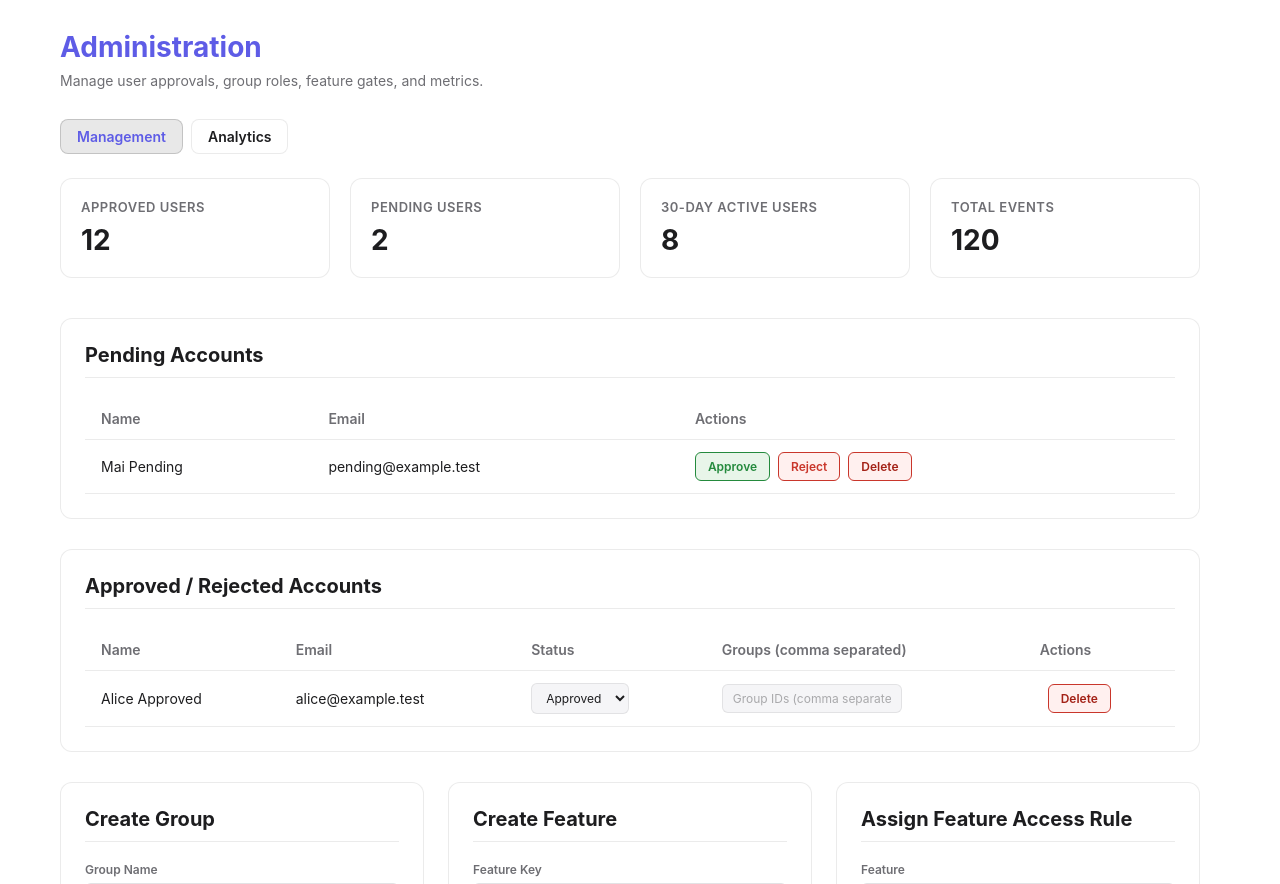
Test case: AdminPage Dashboard › switches to Analytics view when Analytics button clicked
The width and height of the screenshot is (1280, 884).
Click the button "Analytics": (240, 136) [191, 119, 288, 154]
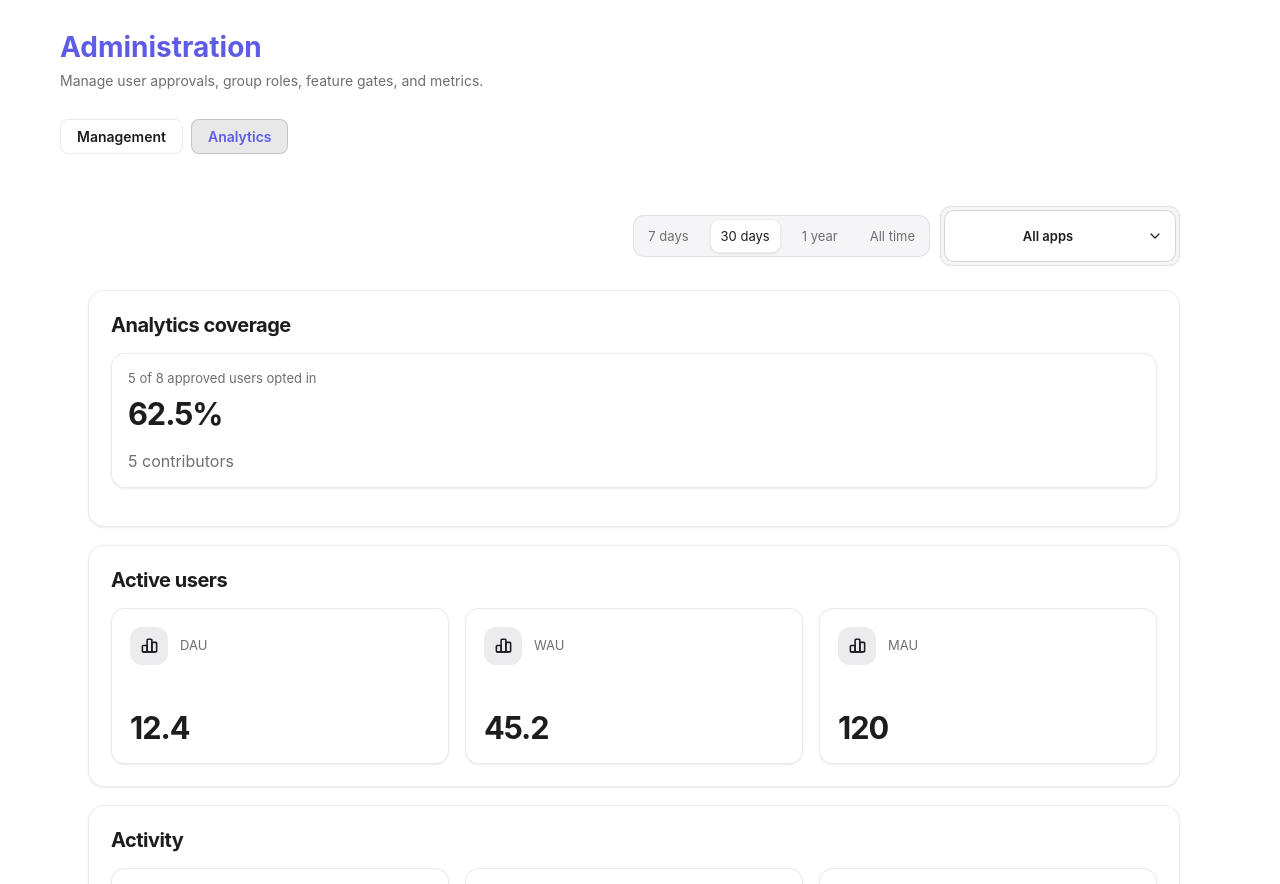
Check: the heading "Analytics coverage" is shown, box [111, 313, 291, 337]
